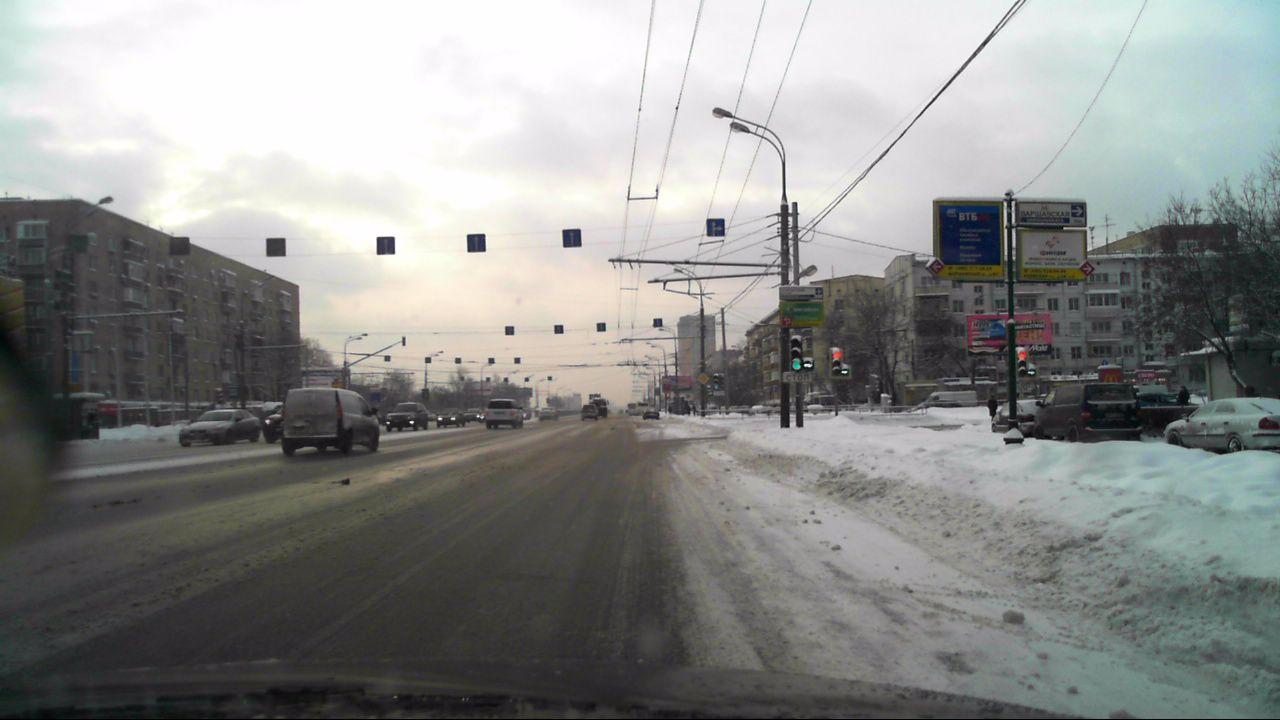5_15_2: (706, 218, 728, 236), (468, 233, 487, 252), (562, 229, 581, 247), (376, 237, 395, 255)
